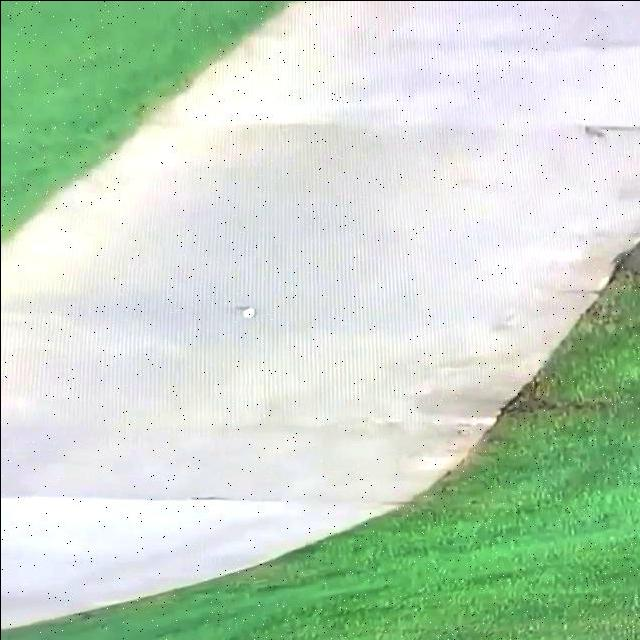GolfBall: (242, 307, 256, 317)
